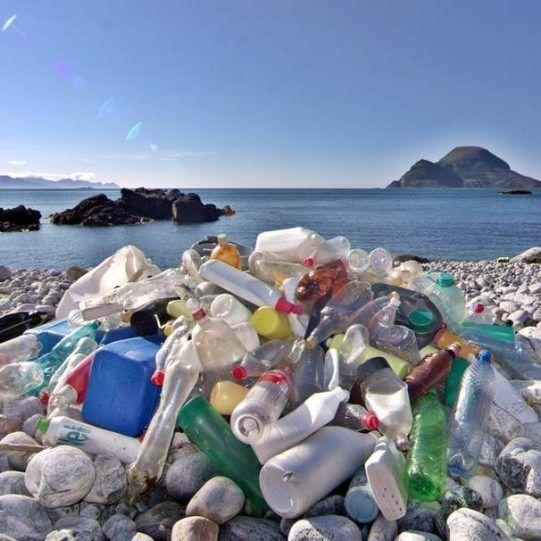HDPE: (258, 425, 380, 517), (81, 337, 165, 438), (250, 389, 348, 460), (196, 258, 307, 314), (44, 417, 143, 460), (196, 317, 255, 388), (366, 433, 410, 521), (255, 227, 325, 261), (424, 269, 455, 288), (363, 412, 379, 432), (231, 364, 248, 382), (150, 368, 166, 386), (190, 308, 206, 323), (477, 349, 492, 361), (305, 336, 316, 350)
PETE: (445, 358, 496, 479), (403, 392, 447, 502), (230, 364, 289, 446), (311, 278, 375, 340)
